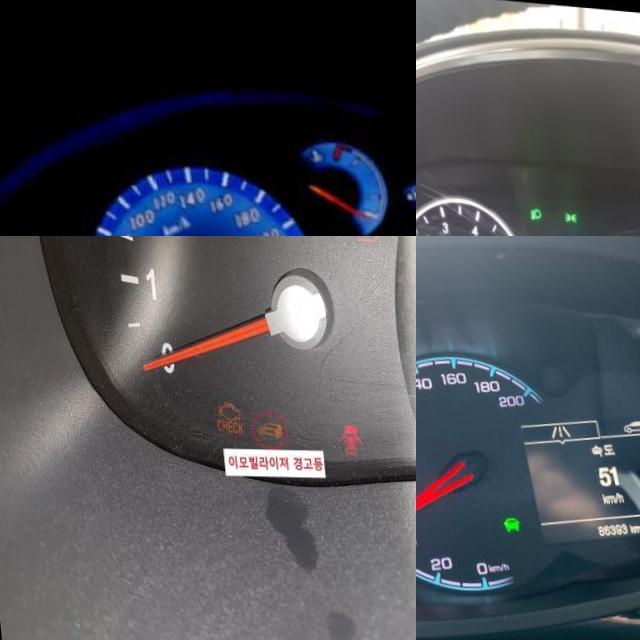Doors: (329, 422, 356, 454)
Low beam: (525, 205, 537, 218)
SideLamp: (558, 209, 572, 221)
